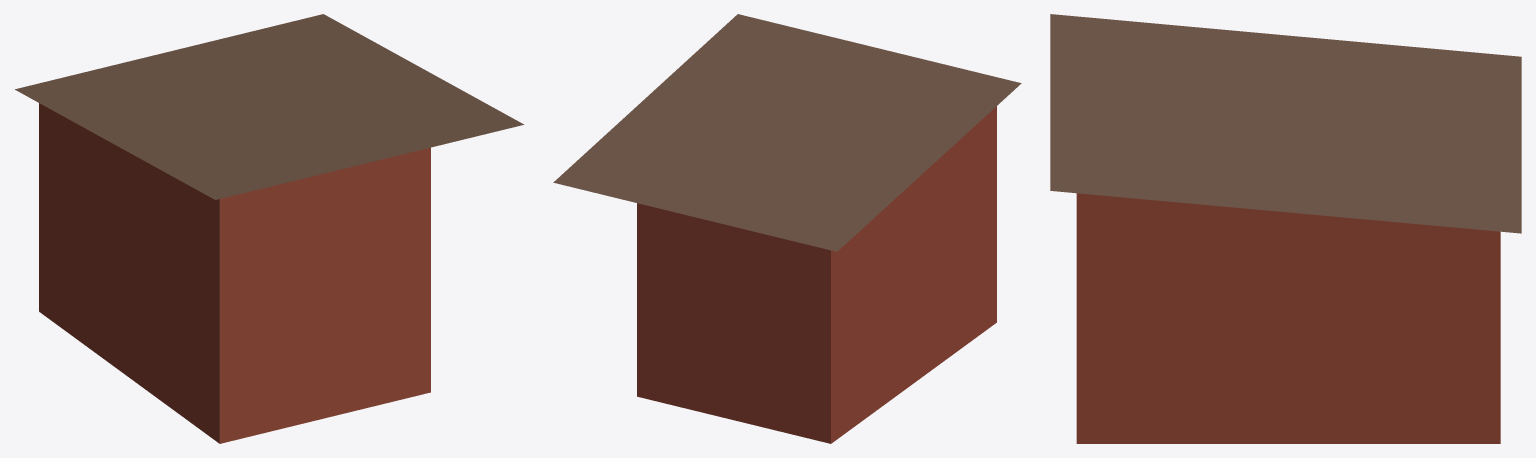
The model's file is fill4_far.fbx.
3 renders of one model, left to right at view 1: azimuth 30°, elevation 25°; view 2: azimuth 150°, elevation 25°; view 3: azimuth 270°, elevation 25°, orthographic. The views are drawn at different scales.
Parts seen in each view (by area): view 1: a2014/0/fill4_far; view 2: a2014/0/fill4_far; view 3: a2014/0/fill4_far.
Boxes of the visible parts, box(x1,y1,x2,y2) form: a2014/0/fill4_far: box(15, 14, 524, 443); a2014/0/fill4_far: box(553, 14, 1021, 443); a2014/0/fill4_far: box(1050, 14, 1521, 443).
Bounding box in the file's own units: 3.95 × 3.12 × 4.45.
